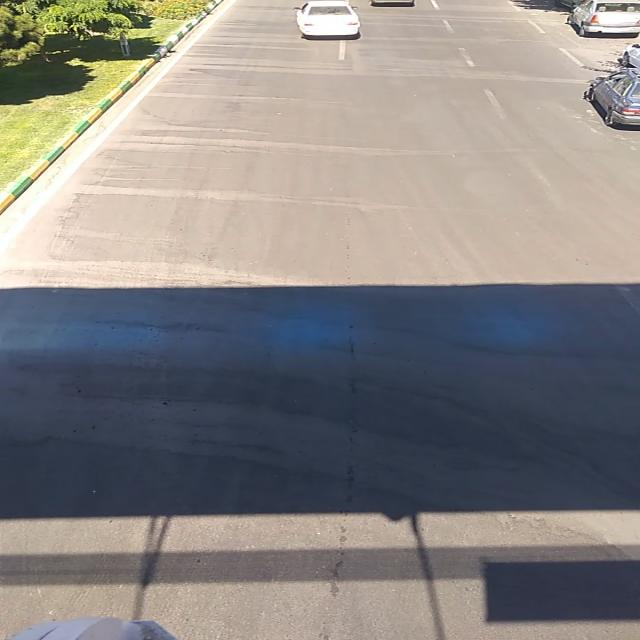car: (591, 66, 639, 128), (564, 1, 636, 38), (294, 2, 359, 36)
